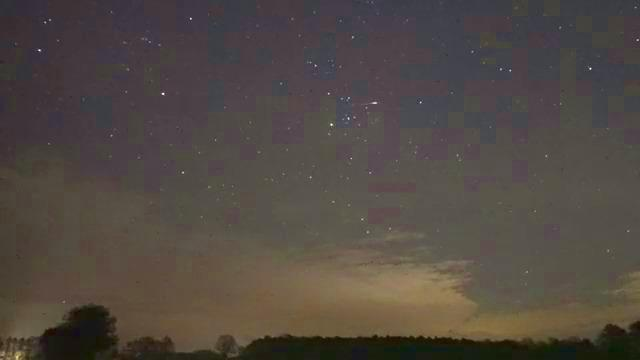meteorite: (350, 98, 384, 111)
